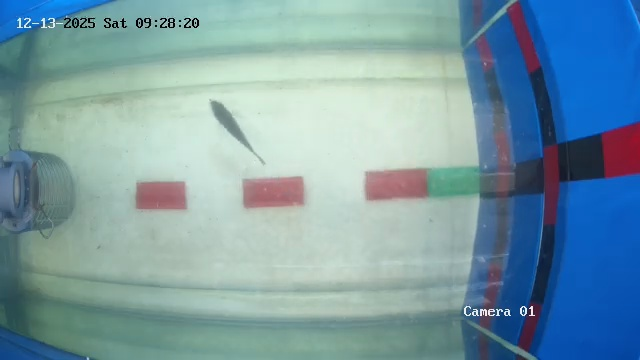fish: (211, 101, 265, 166)
